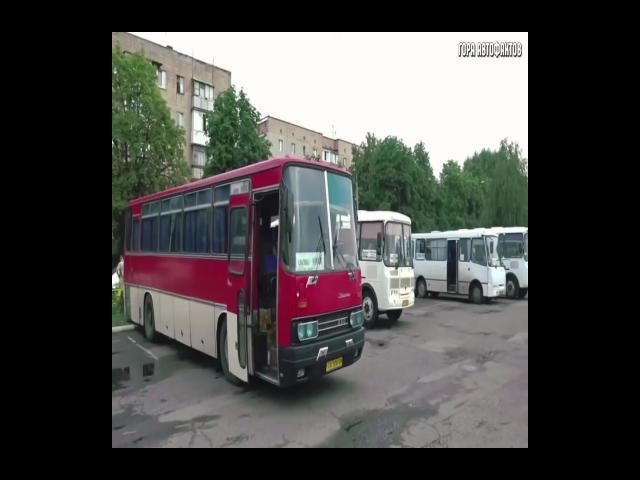bus: (120, 158, 366, 390), (411, 230, 507, 303), (356, 209, 414, 328), (492, 228, 528, 300)
